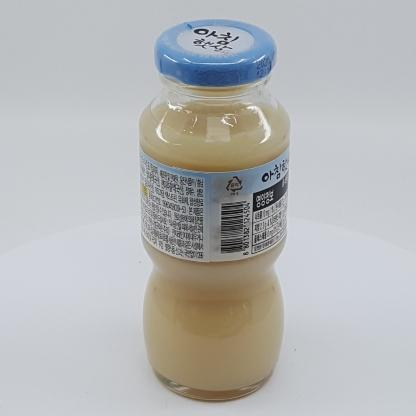------180ML: (139, 19, 291, 400)
